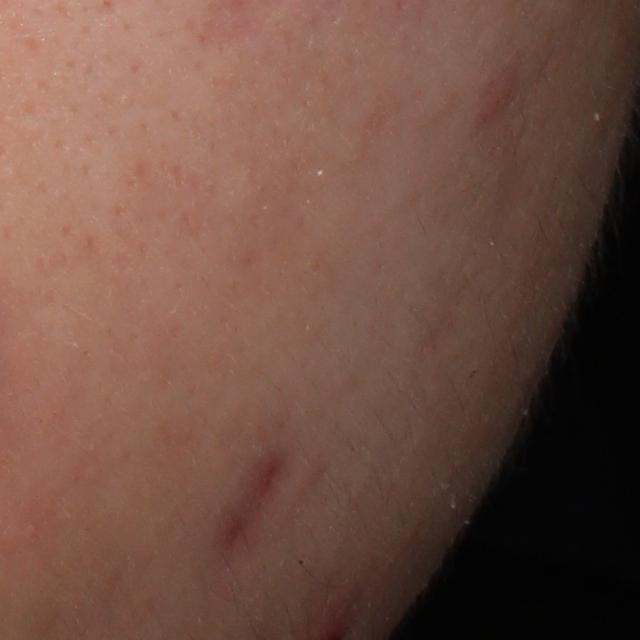atrophic_scar: (205, 443, 301, 564)
papule: (478, 57, 523, 121)
